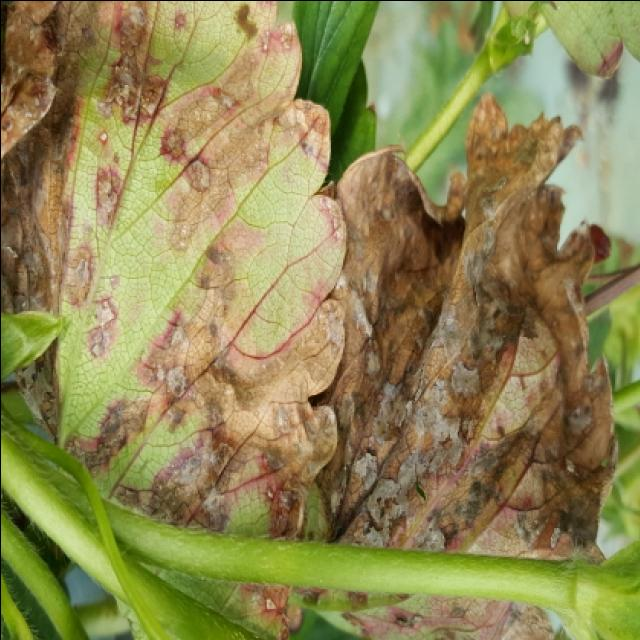Angular Leafspot: (0, 2, 348, 640), (292, 87, 620, 640), (0, 2, 60, 154)
